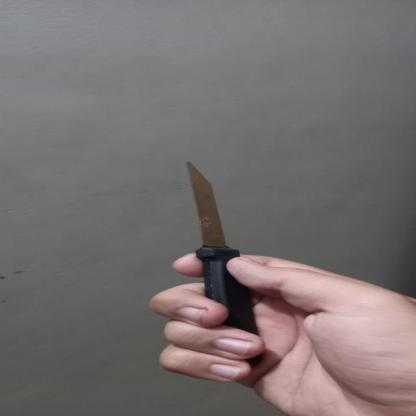Knife: (167, 152, 258, 364)
